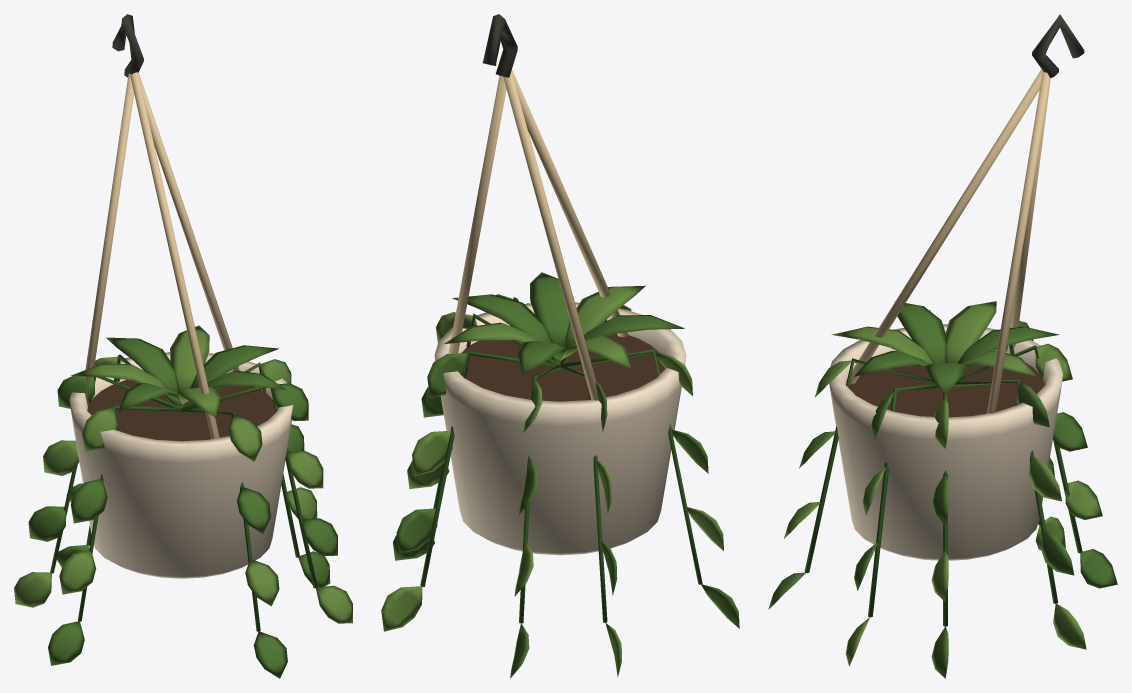
File: macrame.glb
3 views of the same model, side by side, from view 1: azimuth 30°, elevation 25°; view 2: azimuth 150°, elevation 25°; view 3: azimuth 270°, elevation 25° (orthographic). The views are drawn at different scales.
Visible parts, largest first — view 1: macrame_pot, macrame_soil, macrame_cord_2, macrame_cord_1, macrame_cord_0, macrame_crown_leaf_2, macrame_crown_leaf_1, macrame_crown_leaf_0, macrame_vine_leaf_4_3, macrame_vine_leaf_4_2, macrame_vine_leaf_4_1, macrame_vine_leaf_1_3 (+25 smaller); view 2: macrame_pot, macrame_soil, macrame_cord_1, macrame_cord_0, macrame_cord_2, macrame_crown_leaf_6, macrame_crown_leaf_0, macrame_crown_leaf_5, macrame_vine_leaf_3_3, macrame_hook, macrame_vine_3, macrame_crown_leaf_4 (+14 smaller); view 3: macrame_pot, macrame_soil, macrame_cord_2, macrame_cord_0, macrame_crown_leaf_3, macrame_crown_leaf_4, macrame_cord_1, macrame_crown_leaf_5, macrame_crown_leaf_2, macrame_hook, macrame_vine_5, macrame_vine_2 (+17 smaller).
Part boxes in pixels (x1,y1,x2,y2): macrame_pot: (69,352,293,578); macrame_soil: (87,379,275,441); macrame_cord_2: (130,72,219,438); macrame_cord_1: (85,73,134,406); macrame_cord_0: (138,72,239,371); macrame_crown_leaf_2: (106,337,179,392); macrame_crown_leaf_1: (170,325,209,392); macrame_crown_leaf_0: (190,345,278,388); macrame_vine_leaf_4_3: (48,621,84,665); macrame_vine_leaf_4_2: (59,550,96,594); macrame_vine_leaf_4_1: (71,479,107,523); macrame_vine_leaf_1_3: (14,572,51,607); macrame_pot: (434,302,686,555); macrame_soil: (461,333,665,401); macrame_cord_1: (503,71,598,400); macrame_cord_0: (448,75,506,353); macrame_cord_2: (511,69,627,337); macrame_crown_leaf_6: (530,272,573,347); macrame_crown_leaf_0: (452,294,551,342); macrame_crown_leaf_5: (563,285,645,347); macrame_vine_leaf_3_3: (381,586,422,631); macrame_hook: (482,14,517,77); macrame_vine_3: (420,350,559,586); macrame_crown_leaf_4: (584,315,684,340); macrame_pot: (829,324,1062,560); macrame_soil: (849,362,1044,417); macrame_cord_2: (846,69,1042,384); macrame_cord_0: (987,71,1050,413); macrame_crown_leaf_3: (945,301,996,362); macrame_crown_leaf_4: (894,301,945,362); macrame_cord_1: (1006,78,1050,353); macrame_crown_leaf_5: (831,326,933,363); macrame_crown_leaf_2: (957,326,1059,363); macrame_hook: (1032,14,1084,77); macrame_vine_5: (868,384,938,617); macrame_vine_2: (804,358,935,573).
Bounding box in the file's own units: 0.5755 × 1.05 × 0.5655.
